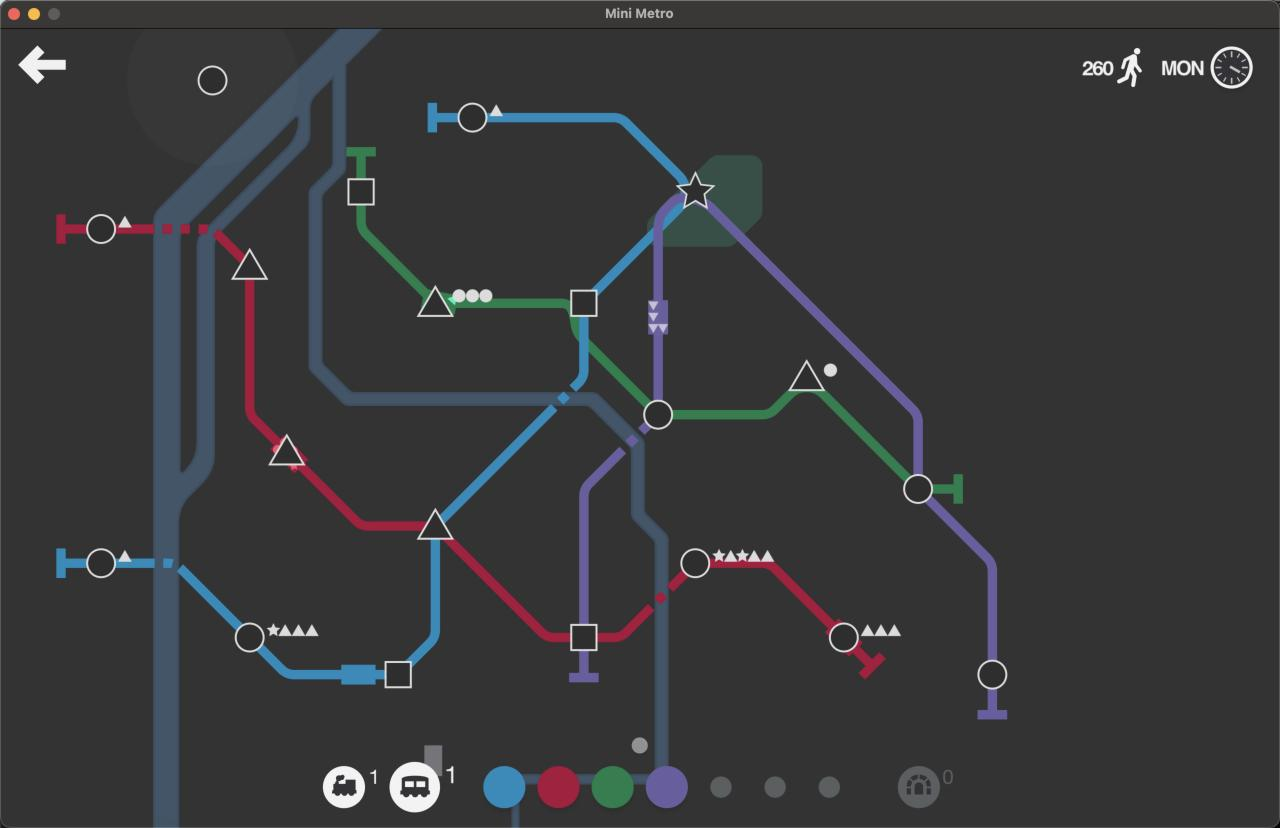CIRCLE: (196, 64, 229, 97), (828, 621, 860, 654), (234, 621, 266, 653), (976, 658, 1008, 690), (642, 398, 674, 430), (902, 472, 933, 505), (457, 101, 488, 133), (86, 213, 117, 244), (86, 547, 116, 579), (680, 547, 710, 579)
SQUARE: (570, 288, 599, 318), (569, 623, 599, 652), (384, 660, 413, 689), (347, 177, 376, 206)
STAR: (676, 170, 715, 209)
TRIANGLE: (268, 433, 308, 468), (416, 507, 456, 541), (415, 285, 455, 319), (787, 358, 826, 392), (231, 248, 269, 282)
